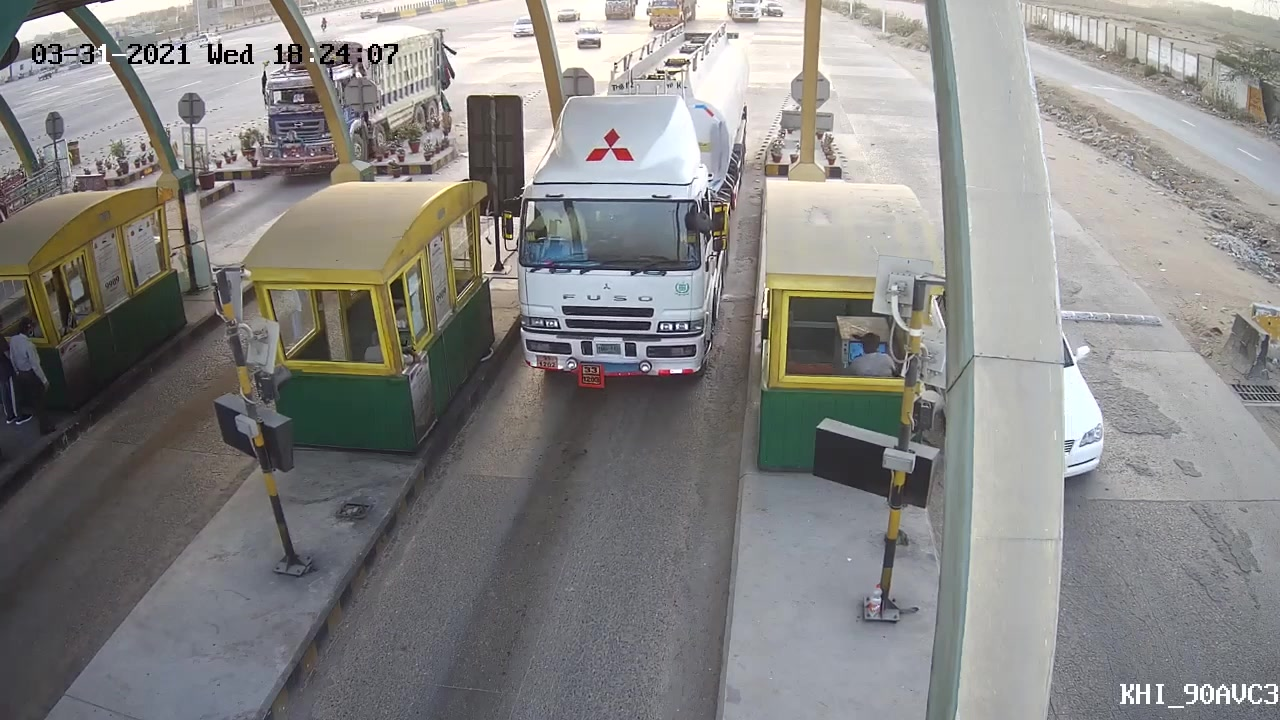F6: (504, 17, 756, 392)
